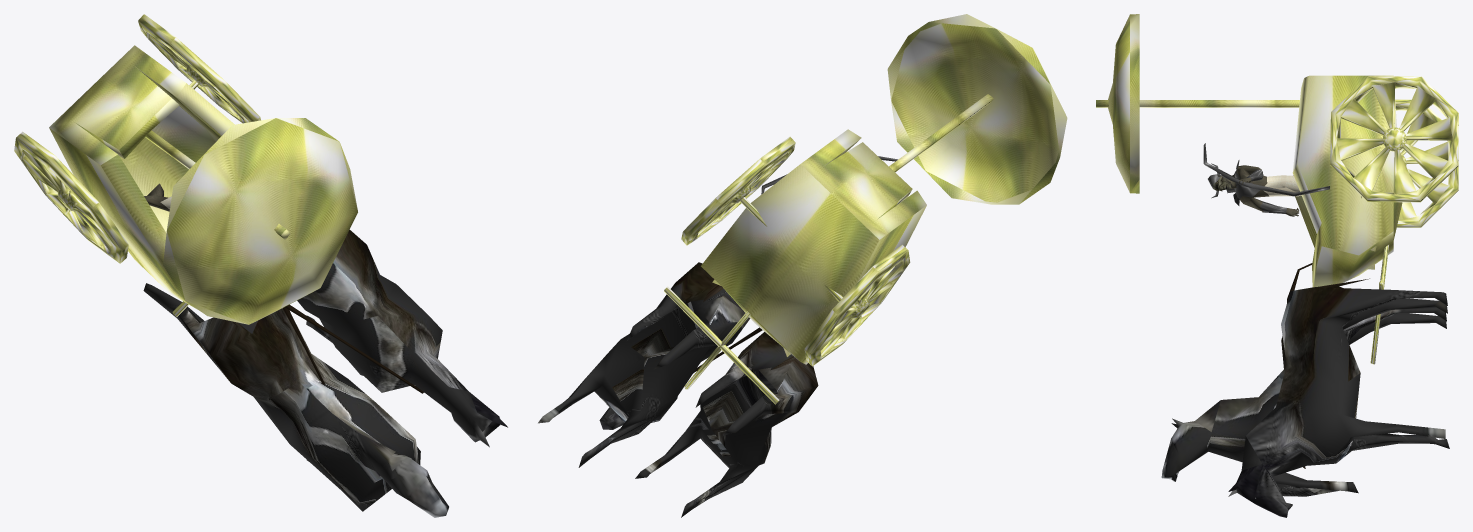
The model's file is chariot_000228.obj.
The picture shows the model from 3 angles, left to right: view 1: azimuth 30°, elevation 25°; view 2: azimuth 150°, elevation 25°; view 3: azimuth 270°, elevation 25°; orthographic projection. The views are drawn at different scales.
Parts seen in each view (by area): view 1: umbrella_Sphere, Horse.000_objHorse_0.001, chariot_Cube.001, Horse.001_objHorse_0.002, wheelR_Cylinder, wheelL_Cylinder.003, Cylinder_Cylinder.001; view 2: chariot_Cube.001, umbrella_Sphere, Horse.001_objHorse_0.002, Horse.000_objHorse_0.001, wheelR_Cylinder, wheelL_Cylinder.003, rod_Cylinder.002; view 3: Horse.001_objHorse_0.002, chariot_Cube.001, wheelL_Cylinder.003, Horse.000_objHorse_0.001, umbrella_Sphere, A4_Circle, wheelR_Cylinder, rod_Cylinder.002.
Part boxes in pixels (<box>): umbrella_Sphere: <box>145,118,357,324</box>; Horse.000_objHorse_0.001: <box>143,283,448,517</box>; chariot_Cube.001: <box>49,45,234,308</box>; Horse.001_objHorse_0.002: <box>297,229,507,447</box>; wheelR_Cylinder: <box>14,131,128,263</box>; wheelL_Cylinder.003: <box>138,14,260,123</box>; Cylinder_Cylinder.001: <box>282,304,423,393</box>; chariot_Cube.001: <box>701,129,926,364</box>; umbrella_Sphere: <box>887,14,1067,204</box>; Horse.001_objHorse_0.002: <box>538,262,750,467</box>; Horse.000_objHorse_0.001: <box>635,332,818,517</box>; wheelR_Cylinder: <box>804,244,910,366</box>; wheelL_Cylinder.003: <box>681,136,795,245</box>; rod_Cylinder.002: <box>664,197,842,404</box>; Horse.001_objHorse_0.002: <box>1228,278,1449,517</box>; chariot_Cube.001: <box>1292,75,1402,287</box>; wheelL_Cylinder.003: <box>1330,76,1458,202</box>; Horse.000_objHorse_0.001: <box>1161,308,1446,496</box>; umbrella_Sphere: <box>1096,14,1299,193</box>; A4_Circle: <box>1203,143,1361,216</box>; wheelR_Cylinder: <box>1395,99,1458,227</box>; rod_Cylinder.002: <box>1370,245,1388,364</box>.
Bounding box in the file's own units: 6.78 × 7.75 × 6.33.
